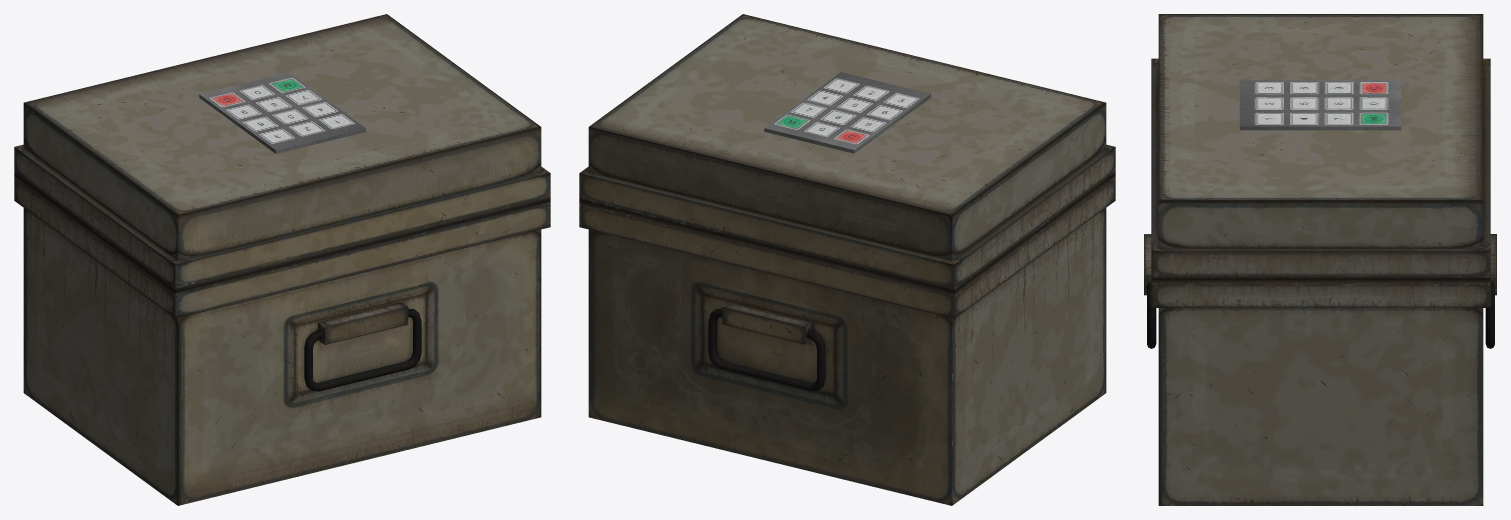
3 renders of one model, left to right at view 1: azimuth 30°, elevation 25°; view 2: azimuth 150°, elevation 25°; view 3: azimuth 270°, elevation 25°, orthographic. The views are drawn at different scales.
Visible parts, largest first — view 1: lid, box, keypad; view 2: lid, box, keypad; view 3: lid, box, keypad.
Part boxes in pixels (x1,y1,x2,y2): lid: (14, 14, 550, 318); box: (23, 208, 541, 505); keypad: (199, 72, 365, 153); lid: (579, 14, 1115, 318); box: (588, 208, 1106, 505); keypad: (764, 72, 930, 153); lid: (1151, 14, 1490, 307); box: (1144, 234, 1496, 505); keypad: (1239, 80, 1401, 130).
Size of the model in its own units: 30.96 by 23.18 by 23.97.
2 materials, 2 textured.
